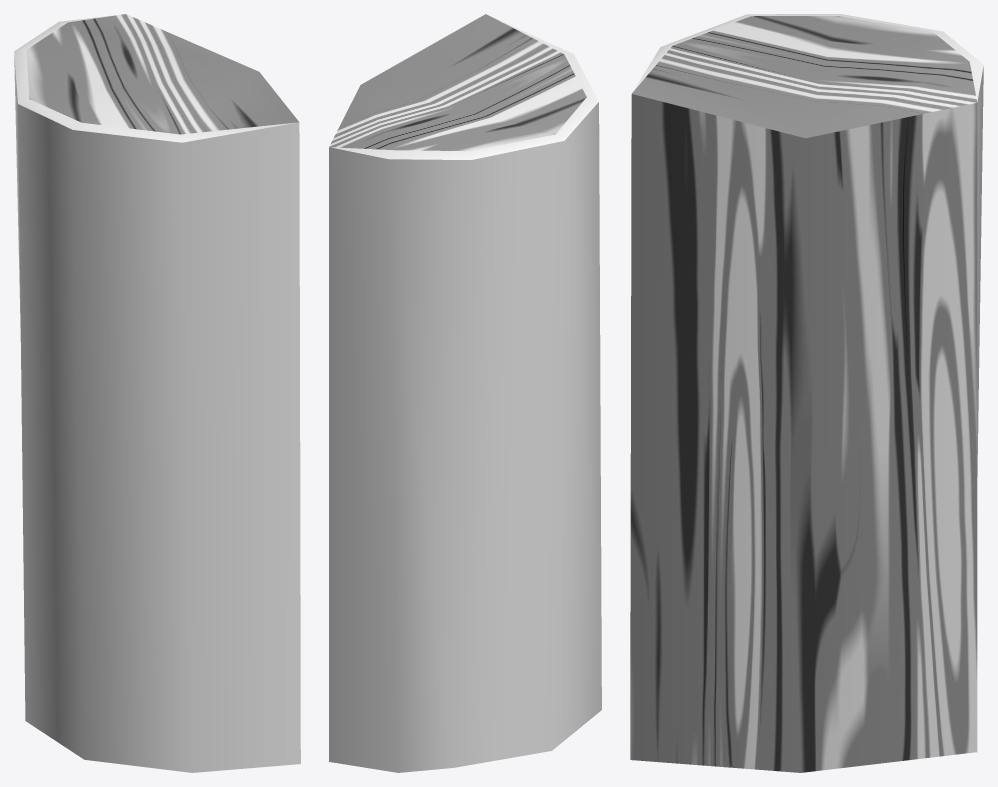
Rendered from SM_FireWood02.obj.
3 views of the same model, side by side, from view 1: azimuth 30°, elevation 25°; view 2: azimuth 150°, elevation 25°; view 3: azimuth 270°, elevation 25° (orthographic). The views are drawn at different scales.
Visible parts, largest first — view 1: SM_FireWood02_Mi_FireWoodDark, SM_FireWood02_Mat_MainWS_WoodRotated_Dark_Inst; view 2: SM_FireWood02_Mi_FireWoodDark, SM_FireWood02_Mat_MainWS_WoodRotated_Dark_Inst; view 3: SM_FireWood02_Mat_MainWS_WoodRotated_Dark_Inst, SM_FireWood02_Mi_FireWoodDark.
Boxes of the visible parts, x1=… form: SM_FireWood02_Mi_FireWoodDark: x1=14, y1=14, x2=300, y2=772; SM_FireWood02_Mat_MainWS_WoodRotated_Dark_Inst: x1=26, y1=14, x2=298, y2=134; SM_FireWood02_Mi_FireWoodDark: x1=329, y1=15, x2=601, y2=772; SM_FireWood02_Mat_MainWS_WoodRotated_Dark_Inst: x1=329, y1=14, x2=586, y2=151; SM_FireWood02_Mat_MainWS_WoodRotated_Dark_Inst: x1=630, y1=16, x2=977, y2=772; SM_FireWood02_Mi_FireWoodDark: x1=632, y1=14, x2=983, y2=476.
Size of the model in its own units: 0.1498 by 0.4091 by 0.1969.
